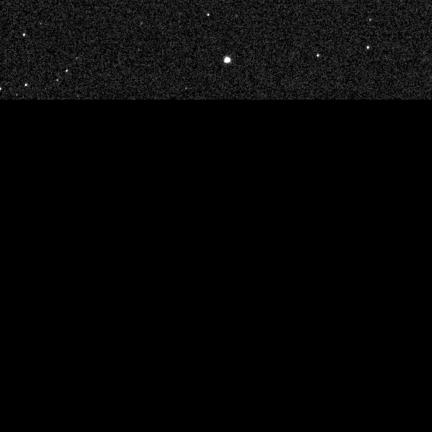blob: (224, 57, 231, 63), (367, 46, 370, 50), (25, 83, 28, 87), (66, 70, 69, 73), (317, 54, 320, 57), (23, 34, 26, 37), (207, 14, 210, 17), (0, 87, 2, 91), (370, 19, 372, 22), (57, 79, 59, 82)
